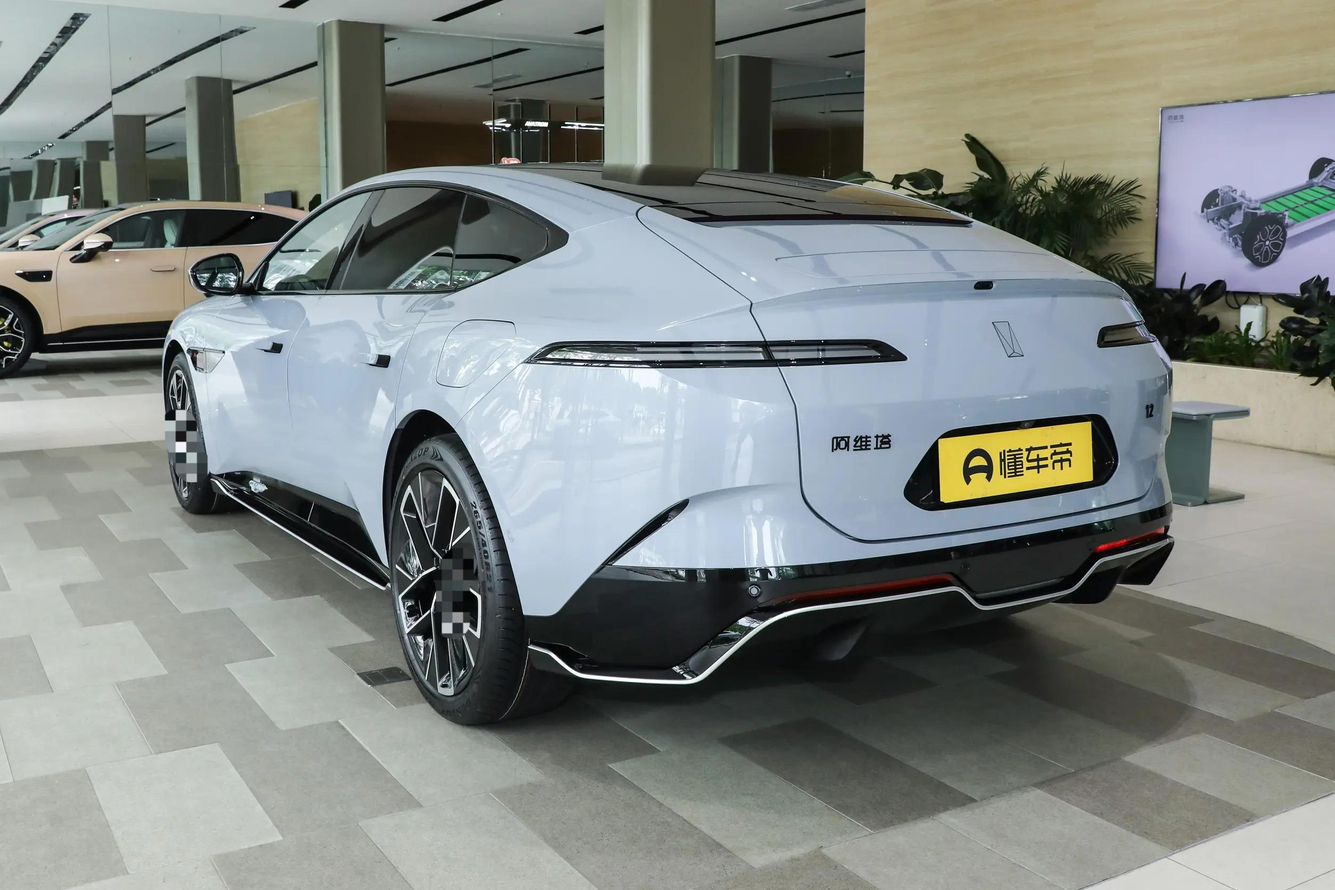AVATR: (992, 322, 1024, 357)
